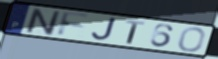6: (150, 23, 175, 49)
F: (57, 10, 92, 38)
J: (90, 17, 118, 42)
N: (24, 7, 62, 37)
O: (177, 26, 207, 53)
T: (124, 19, 146, 45)
